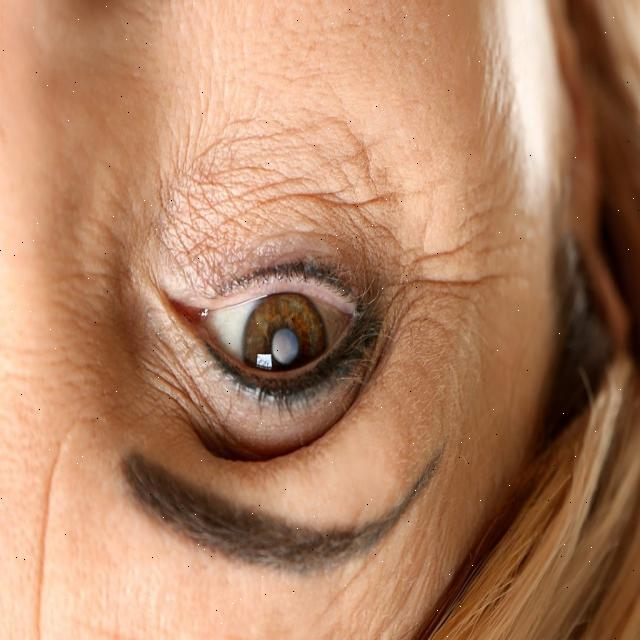Cataract: (240, 289, 328, 402)
